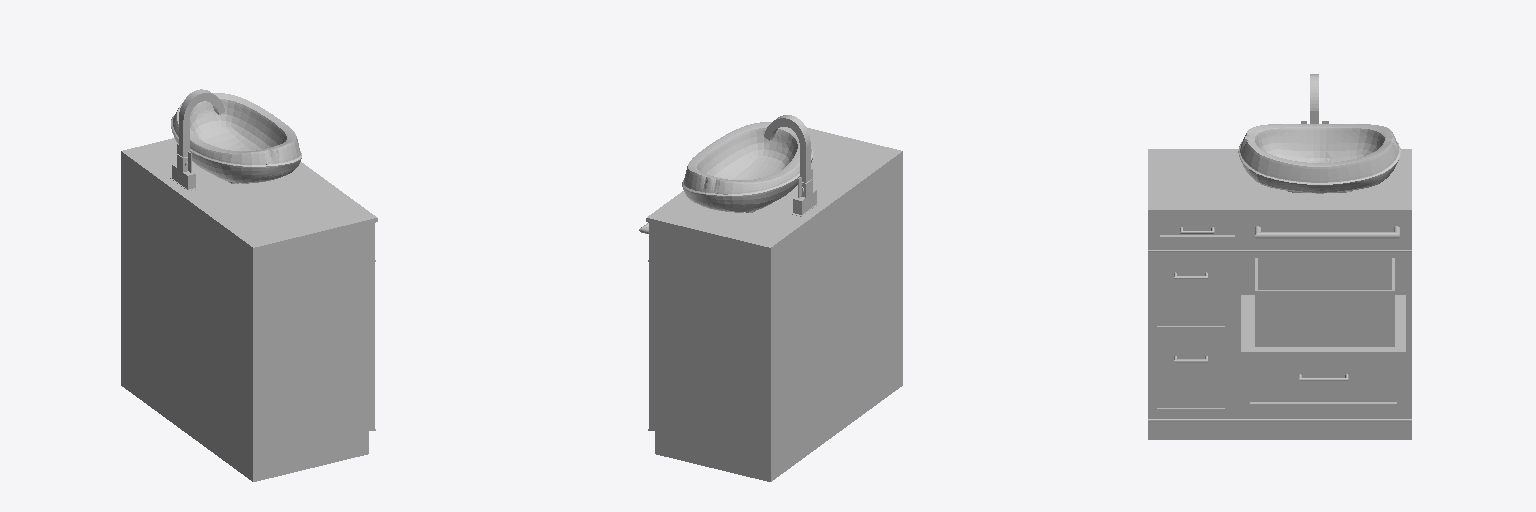
File: wash.obj
The picture shows the model from 3 angles: view 1: azimuth 30°, elevation 25°; view 2: azimuth 150°, elevation 25°; view 3: azimuth 270°, elevation 25°; orthographic projection.
Visible parts, largest first — view 1: Layer0_001, Plane01_3_001, grifo_001; view 2: Layer0_001, Plane01_3_001, grifo_001; view 3: Layer0_001, Canasto_001, Plane01_3_001.
Boxes of the visible parts, x1,y1,x2,y2 form: Layer0_001: [121, 138, 377, 481]; Plane01_3_001: [171, 93, 301, 183]; grifo_001: [170, 89, 224, 190]; Layer0_001: [639, 127, 902, 481]; Plane01_3_001: [682, 122, 813, 212]; grifo_001: [764, 115, 818, 216]; Layer0_001: [1148, 149, 1411, 439]; Canasto_001: [1255, 258, 1394, 346]; Plane01_3_001: [1238, 124, 1400, 193].
Size of the model in its own units: 20.08 by 44.93 by 33.46.